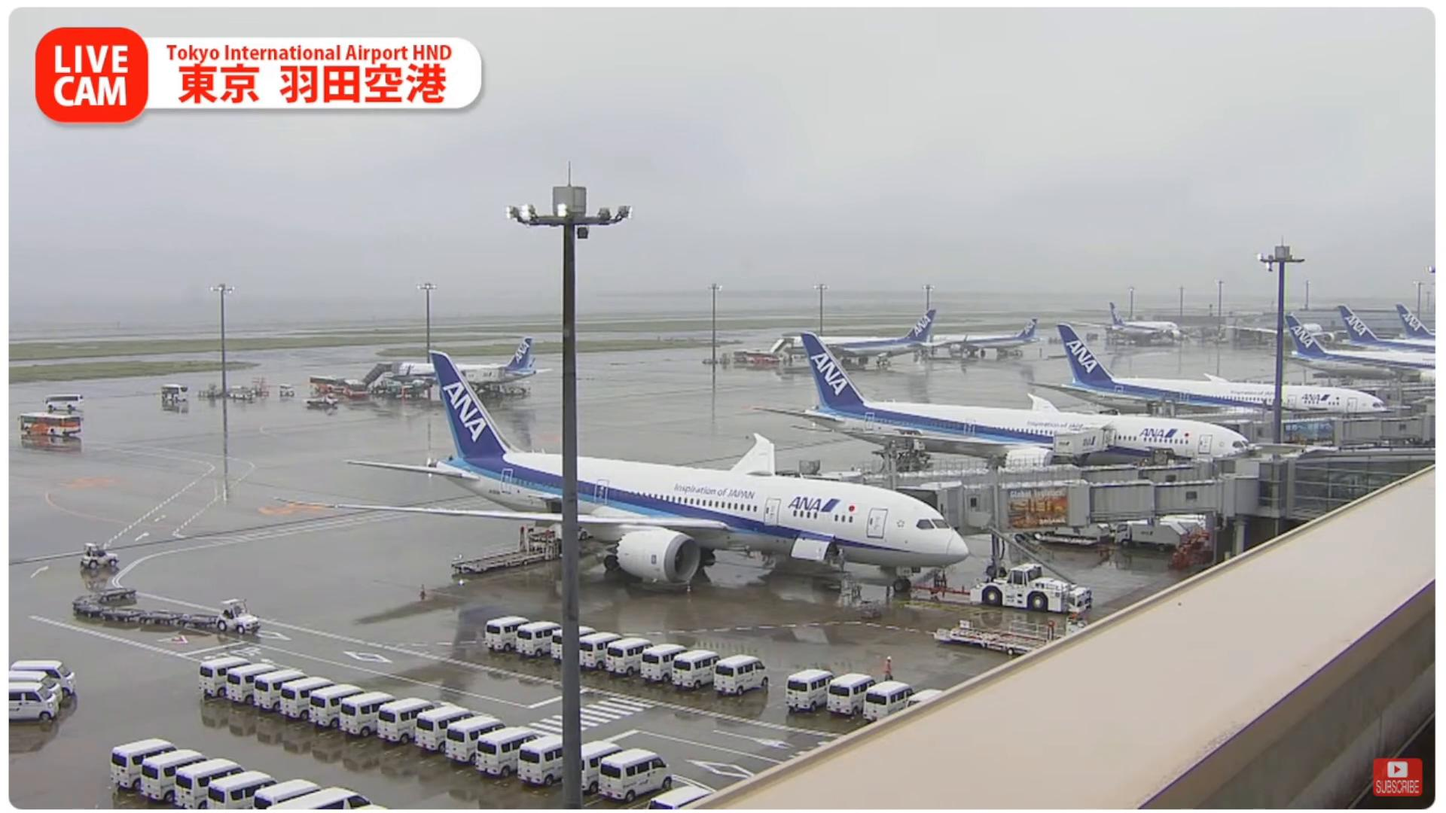APS: (968, 562, 1094, 614)
Aerobridge: (796, 455, 1210, 515), (990, 474, 1182, 535)
Airplane: (270, 351, 970, 592)
Dolly: (73, 587, 218, 627)
JCPL: (934, 610, 1086, 656), (452, 525, 561, 575)
Tractor: (215, 598, 261, 633), (80, 543, 117, 569)
Window: (1292, 458, 1433, 516)
